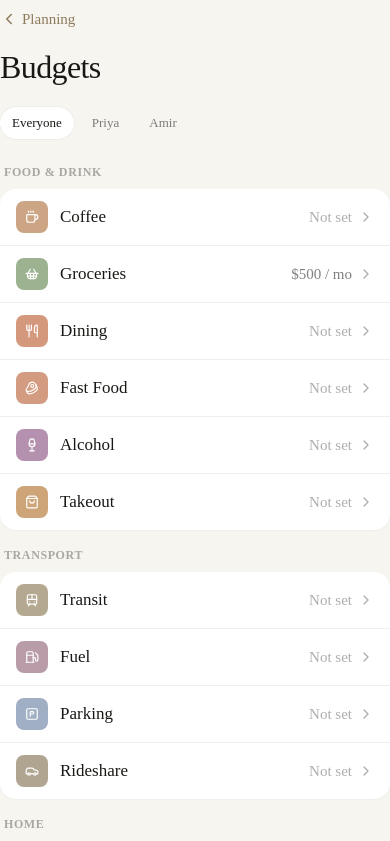
Test: Budgets page — whose budgets › opens the drawer for the selected person
Click the tab "Priya" at (106, 123), box [80,107,131,139]
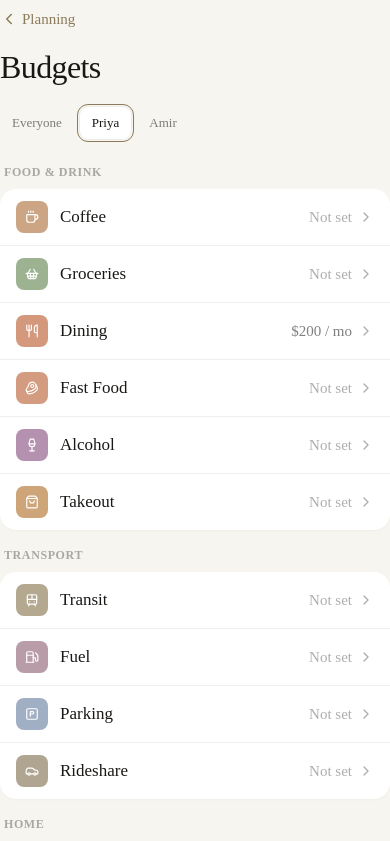
Click the button "Dining $200 / mo" at (32, 331), box [0,303,389,360]
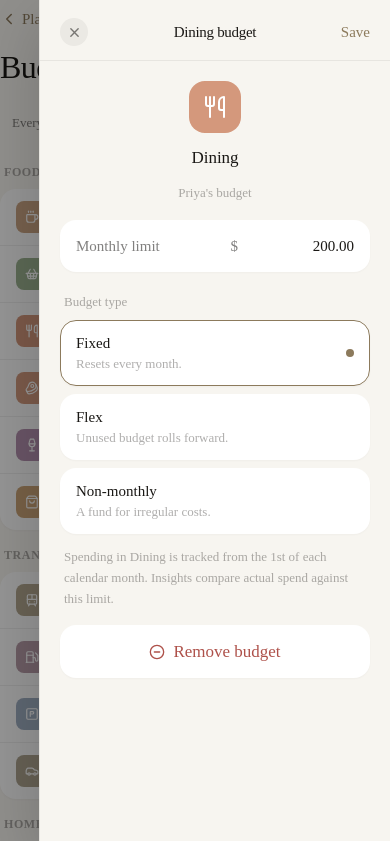
Expected: the text "Priya's budget" is shown, [178,182,252,202]
